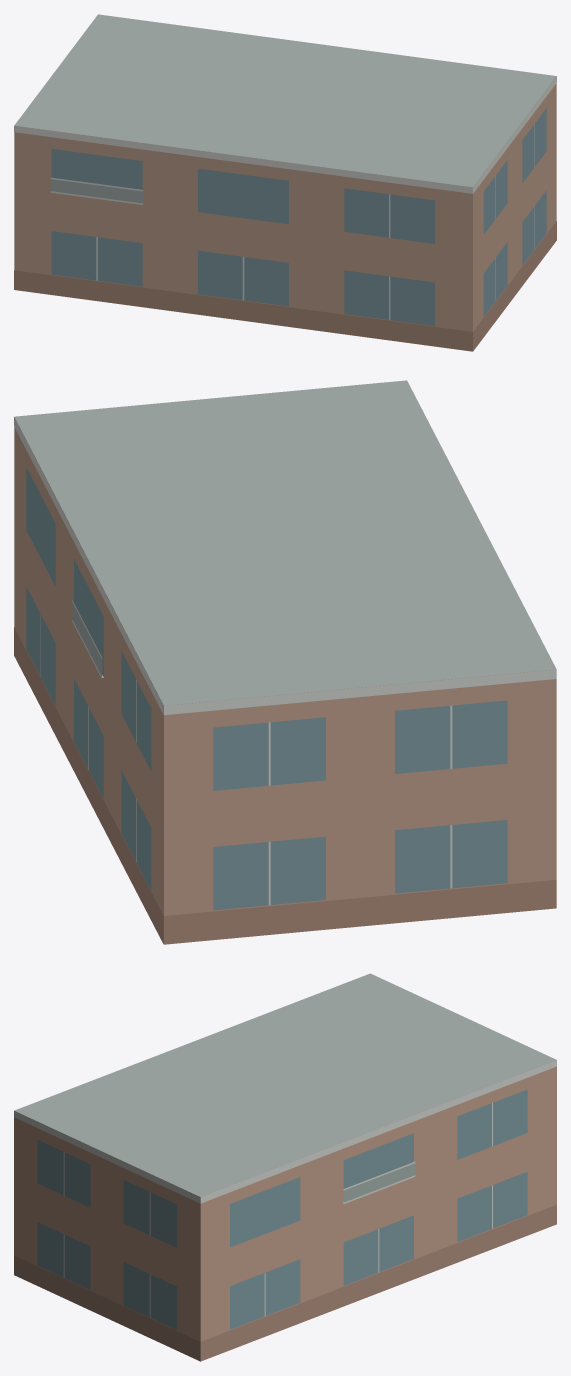
The model's file is residential-adac014f-e2ea-4f1d-9dc2-0389e12b8dda.glb.
3 views of the same model, one above another, from view 1: azimuth 30°, elevation 25°; view 2: azimuth 150°, elevation 25°; view 3: azimuth 270°, elevation 25° (orthographic). The views are drawn at different scales.
Visible parts, largest first — view 1: residential-adac014f-e2ea-4f1d-9dc2-0389e12b8dda.tmp; view 2: residential-adac014f-e2ea-4f1d-9dc2-0389e12b8dda.tmp; view 3: residential-adac014f-e2ea-4f1d-9dc2-0389e12b8dda.tmp.
Boxes of the visible parts, x1=… form: residential-adac014f-e2ea-4f1d-9dc2-0389e12b8dda.tmp: x1=14, y1=14, x2=556, y2=351; residential-adac014f-e2ea-4f1d-9dc2-0389e12b8dda.tmp: x1=14, y1=380, x2=556, y2=944; residential-adac014f-e2ea-4f1d-9dc2-0389e12b8dda.tmp: x1=14, y1=973, x2=556, y2=1361.
Bounding box in the file's own units: 17.8 × 6.1 × 18.25.
